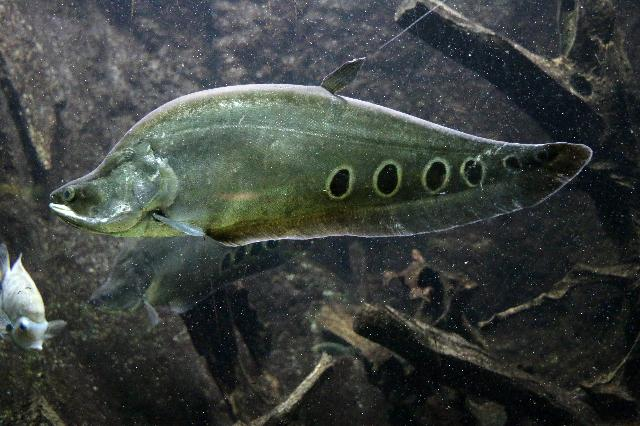Mulut: (34, 174, 112, 232)
Sirip Dada: (140, 198, 212, 246)
Sirip Punggung: (310, 48, 374, 106)
